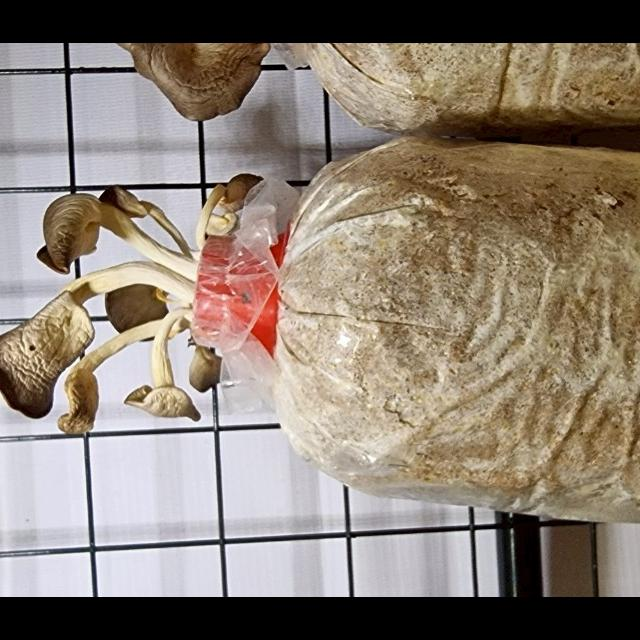abnormal: (0, 248, 215, 403), (28, 294, 209, 449), (4, 164, 213, 287), (128, 142, 268, 274), (151, 300, 248, 467)
